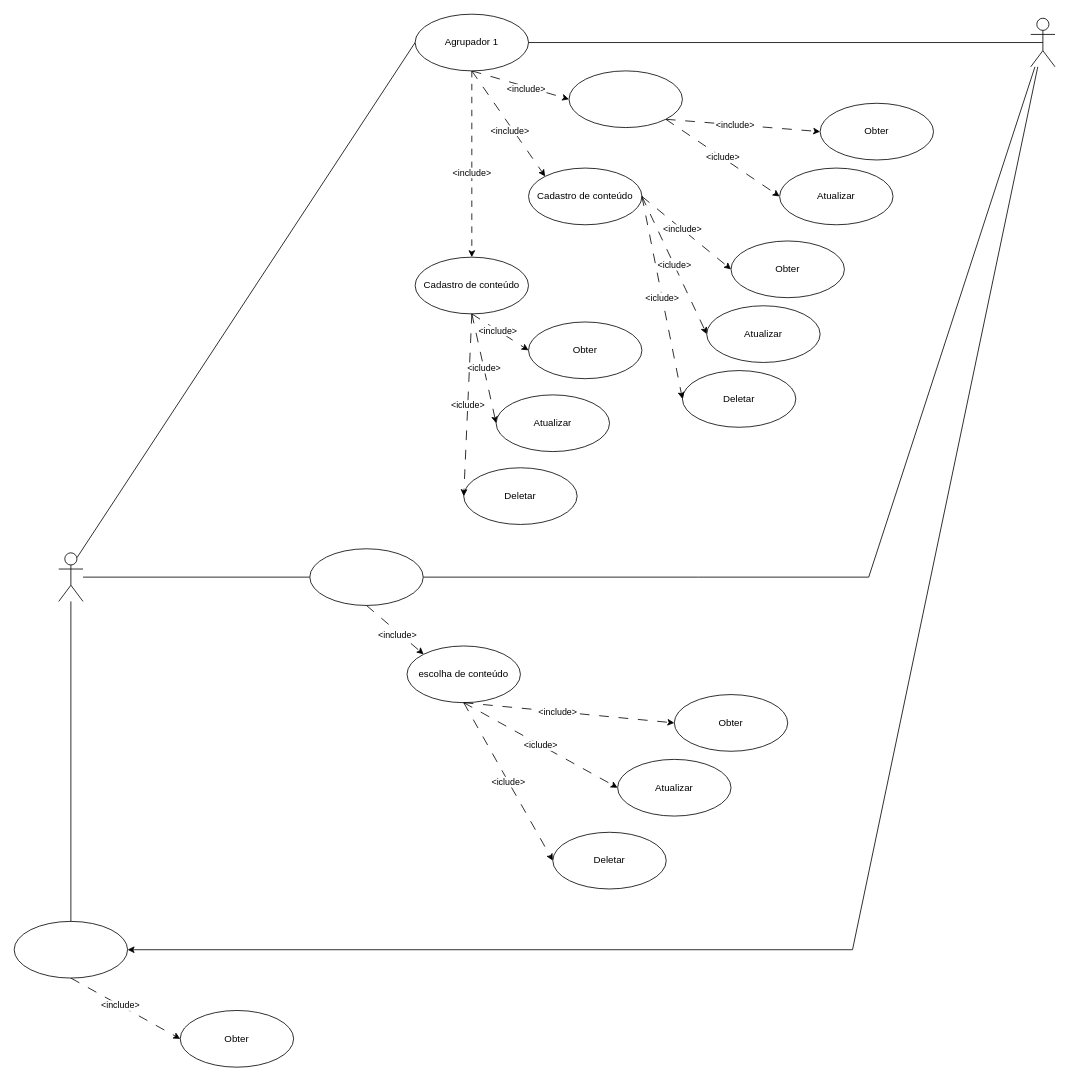
The diagram is 1087 pixels wide and 1081 high, and some of its shapes have lost their labels. Each missing label, with the centre of its shape:
Administrador: point (1042, 42)
Agrupador 2: point (366, 576)
Cadastro da persona: point (625, 99)
Certificado de conclusão: point (70, 949)
Persona: point (70, 576)
